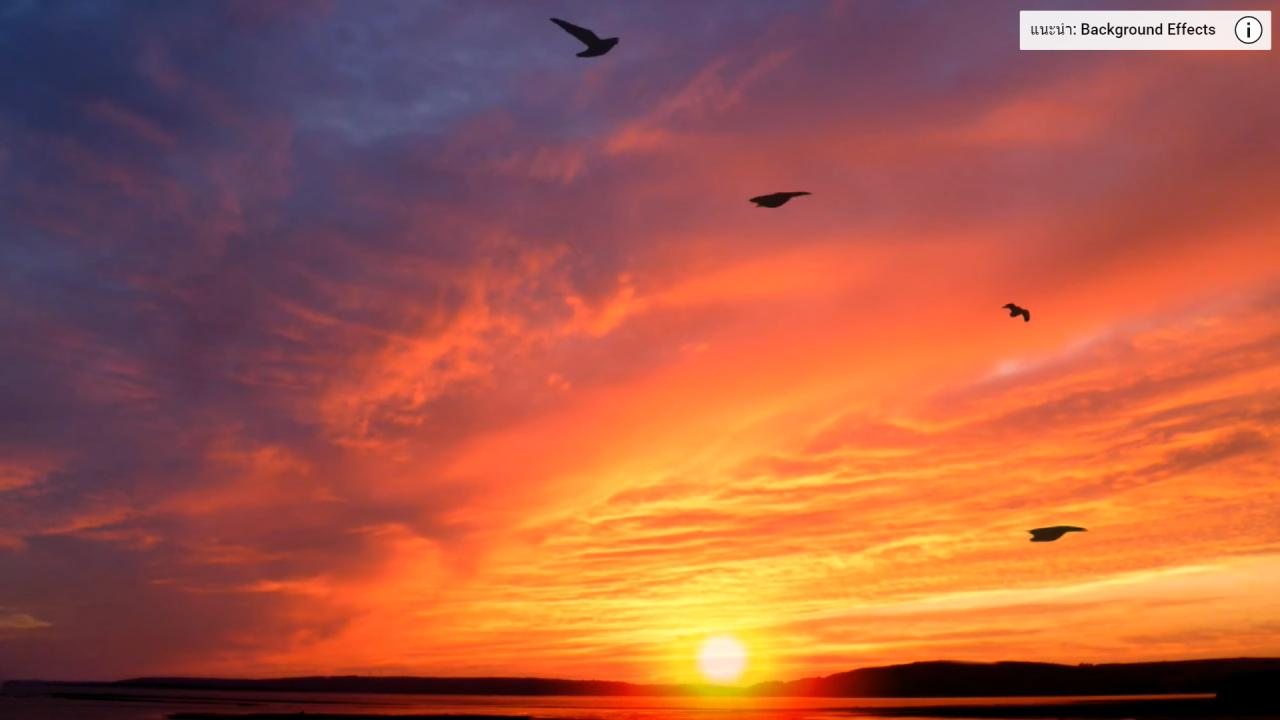Bird: (534, 7, 630, 69), (739, 183, 819, 220), (1018, 520, 1091, 549), (999, 297, 1035, 328)
